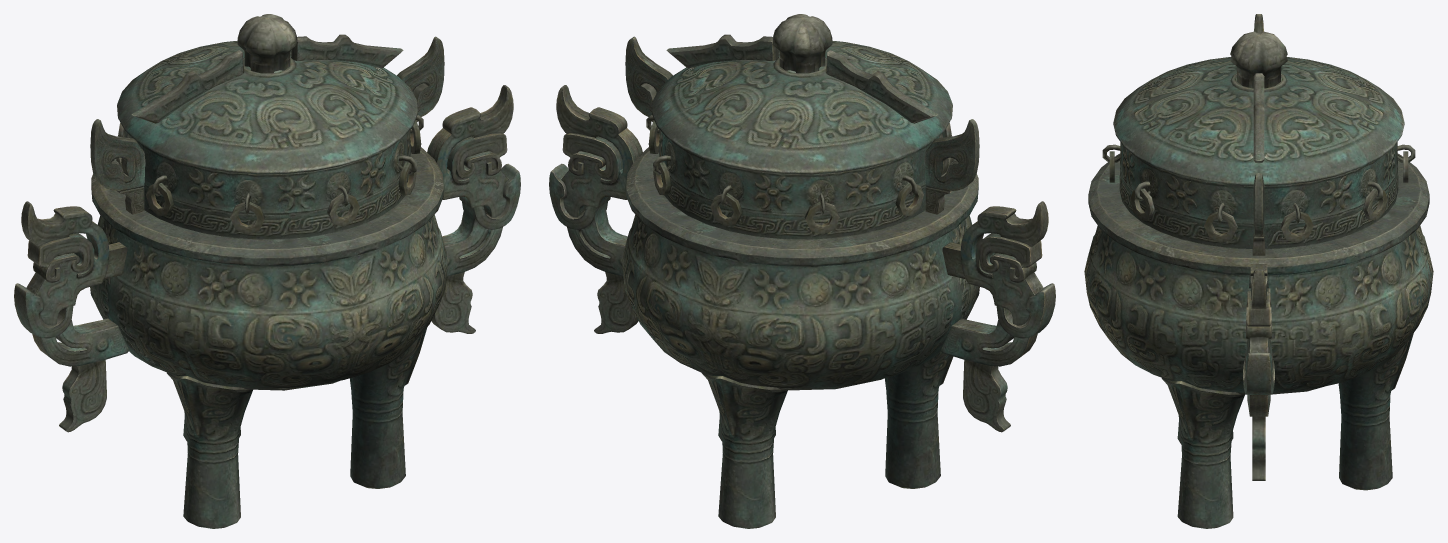
Rendered from furniture-21286.glb.
The picture shows the model from 3 angles, left to right: view 1: azimuth 30°, elevation 25°; view 2: azimuth 150°, elevation 25°; view 3: azimuth 270°, elevation 25°; orthographic projection. The views are drawn at different scales.
Bounding box in the file's own units: 4.03 × 3.57 × 2.54.
Materials: 1 (1 with a texture image).
